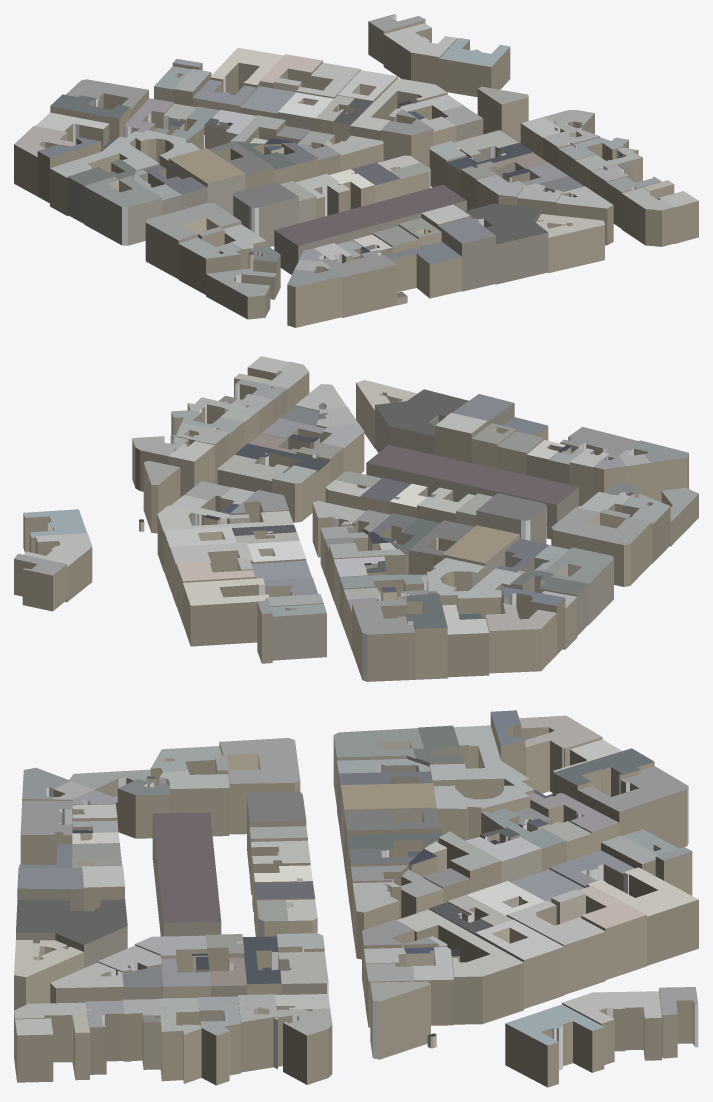
3 views of the same model, one above another, from view 1: azimuth 30°, elevation 25°; view 2: azimuth 150°, elevation 25°; view 3: azimuth 270°, elevation 25° (orthographic). The views are drawn at different scales.
Visible parts, largest first — view 1: tuile; view 2: tuile; view 3: tuile.
Part boxes in pixels (box(x1,y1,x2,y2)): tuile: box(14, 14, 698, 327); tuile: box(14, 356, 698, 681); tuile: box(14, 710, 698, 1087).
Bounding box in the file's own units: 278 × 32.13 × 260.
